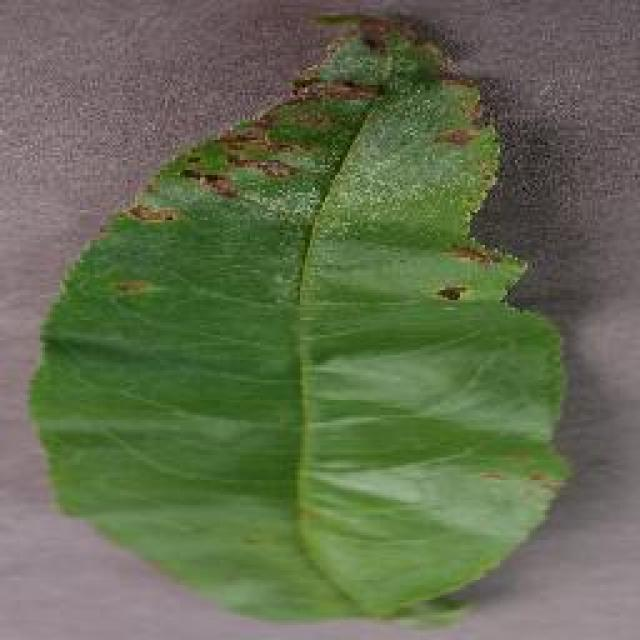Peach_Bacterial_Spot: (123, 20, 577, 315)
